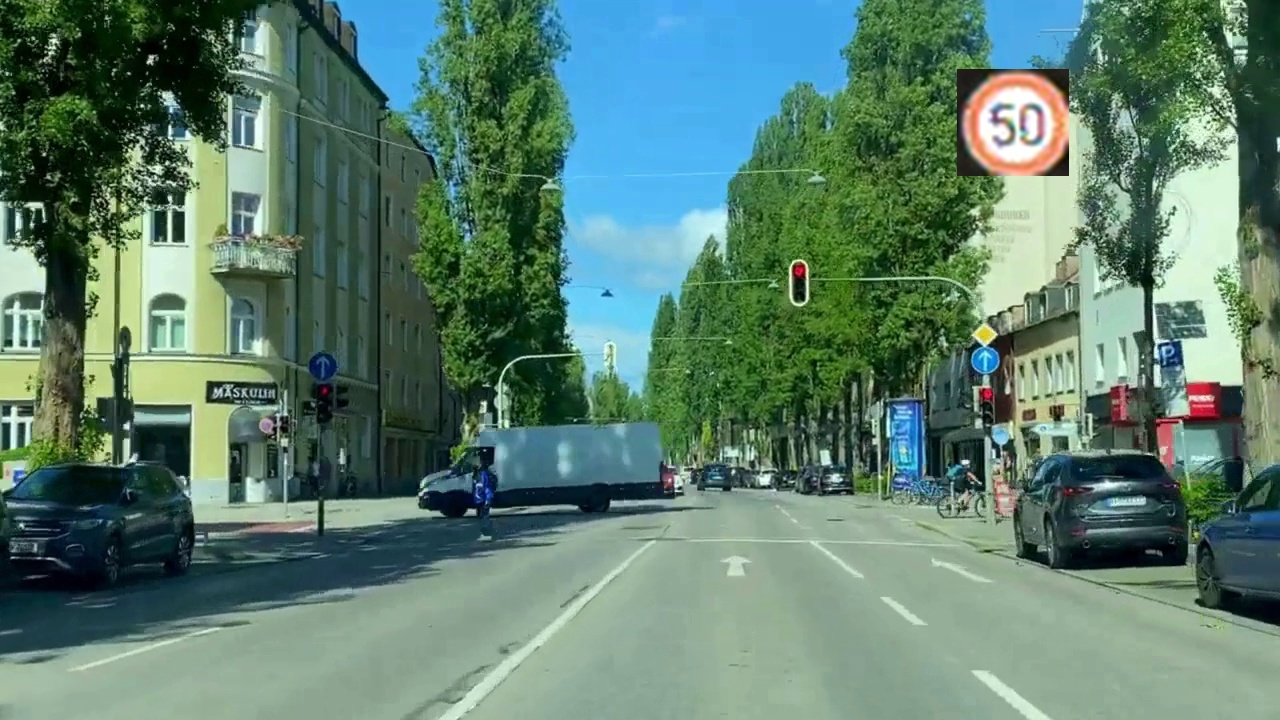Speed 50: (957, 69, 1069, 176)
